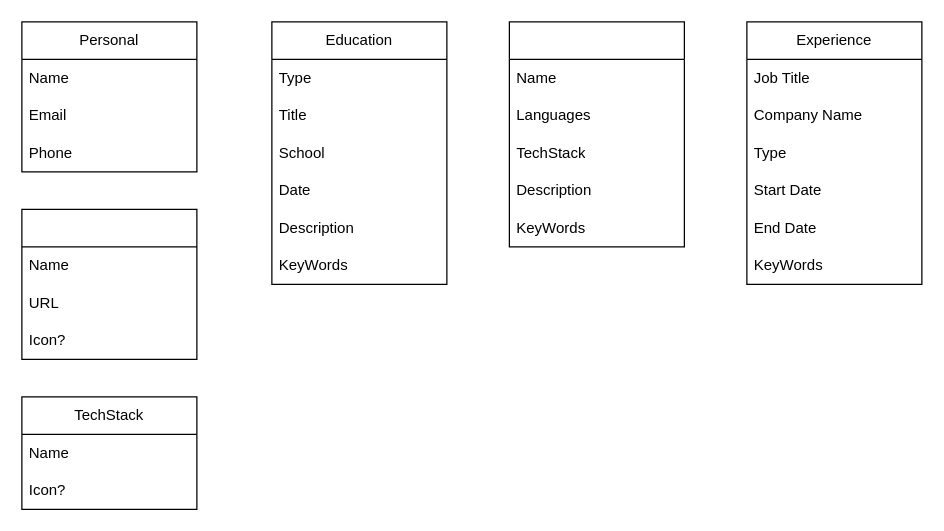
The diagram is 944 pixels wide and 531 high, and some of its shapes have lost their labels. The shapes that lost their labels are listed below. From the top down, each one's box as (x1, y1, x2, y2) in pixels, then its label:
(508, 21, 684, 247): Project
(21, 208, 197, 359): Socal Links
